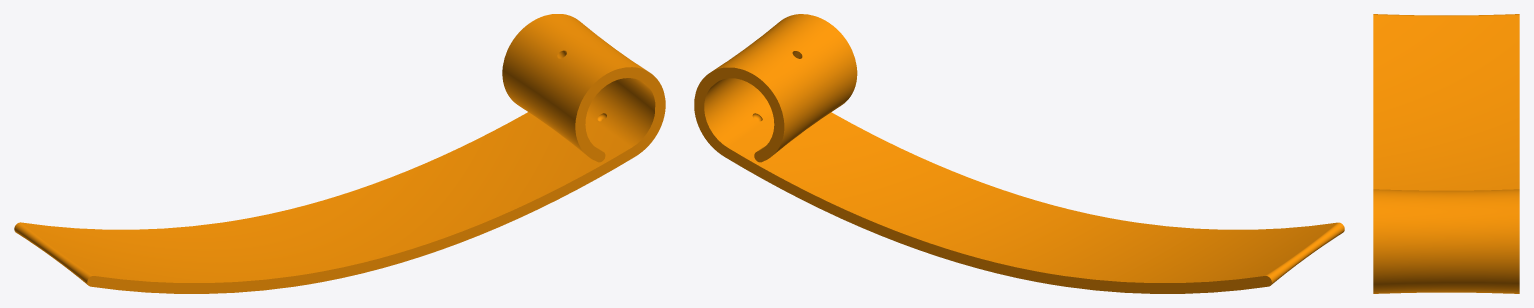
The model's file is portencens.glb.
3 views of the same model, side by side, from view 1: azimuth 30°, elevation 25°; view 2: azimuth 150°, elevation 25°; view 3: azimuth 270°, elevation 25° (orthographic).
Parts seen in each view (by area): view 1: Layer 03(1AEE86EE-BC4E-425F-B621-A8083FA088AB); view 2: Layer 03(1AEE86EE-BC4E-425F-B621-A8083FA088AB); view 3: Layer 03(1AEE86EE-BC4E-425F-B621-A8083FA088AB).
Part boxes in pixels (left/top/right/bottom): Layer 03(1AEE86EE-BC4E-425F-B621-A8083FA088AB): left=14, top=14, right=665, bottom=293; Layer 03(1AEE86EE-BC4E-425F-B621-A8083FA088AB): left=694, top=14, right=1344, bottom=293; Layer 03(1AEE86EE-BC4E-425F-B621-A8083FA088AB): left=1373, top=14, right=1519, bottom=293.
Size of the model in its own units: 0.183 by 0.0429 by 0.04.
